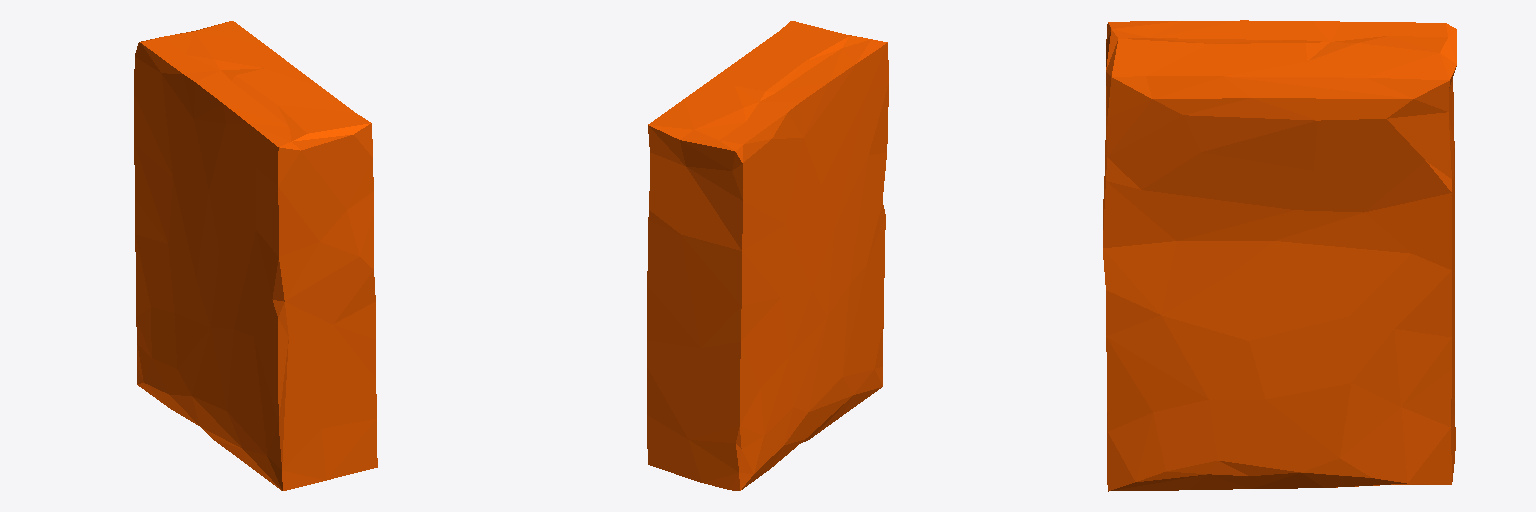
robot.urdf — 003_cracker_box:
<?xml version="1.0" ?>
<robot name="003_cracker_box">
   <material name="obj_color">
      <color rgba="1.0 0.423529411765 0.0392156862745 1.0"/>
   </material>
   <link name="top">
      <inertial>
         <origin rpy="0.0006038316259672886 0.001015664121442001 0.001446935289429902" xyz="-0.002521301937711204 -0.001764296957087579 -0.006063953426007961"/>
         <mass value="0.24875"/>
         <inertia ixx="0.001446830483283693" ixy="-2.524879616832648e-07" ixz="9.394614016453274e-06" iyy="0.001015635552806291" iyz="3.433747370824402e-06" izz="0.0006039650007492083"/>
      </inertial>
      <visual>
         <origin rpy="0 0 0" xyz="0 0 0"/>
         <geometry>
            <mesh filename="top_watertight_tiny.stl" scale="1 1 1"/>
         </geometry>
         <material name="obj_color"/>
      </visual>
      <collision>
         <origin rpy="0 0 0" xyz="0 0 0"/>
         <geometry>
            <mesh filename="top_watertight_tiny.obj" scale="1 1 1"/>
         </geometry>
      </collision>
   </link>
   <link name="bottom">
      <inertial>
         <origin rpy="1.633333333199431e-08 1.633333333199431e-08 1.633333333362855e-08" xyz="0.3464080000000008 0.3464080000000008 0.3464080000000008"/>
         <mass value="0.0009800000000000017"/>
         <inertia ixx="1.633333333253906e-08" ixy="5.447480642029219e-19" ixz="5.447480642029219e-19" iyy="1.633333333253906e-08" iyz="5.447480642029219e-19" izz="1.633333333253906e-08"/>
      </inertial>
      <visual>
         <origin rpy="0 0 0" xyz="0 0 0"/>
         <geometry>
            <mesh filename="bottom_watertight_tiny.stl" scale="1 1 1"/>
         </geometry>
         <material name="obj_color"/>
      </visual>
   </link>
   <link name="world"/>
   <joint name="world_to_base" type="fixed">
      <origin xyz="0 0 0"/>
      <axis xyz="0 0 0"/>
      <parent link="world"/>
      <child link="bottom"/>
   </joint>
   <joint name="rotation" type="revolute">
      <origin xyz="0 0 0"/>
      <axis xyz="0 0 -1"/>
      <parent link="bottom"/>
      <child link="top"/>
      <dynamics damping="1.0" friction="1.0"/>
      <limit effort="0.1" velocity="0.1" lower="0" upper="0.001"/>
   </joint>
</robot>

--- Render facts (derived) ---
Views: 3 orthographic renders of the robot side by side, from view 1: azimuth 30°, elevation 25°; view 2: azimuth 150°, elevation 25°; view 3: azimuth 270°, elevation 25°.
Model 003_cracker_box with 3 links and 2 joints (1 revolute, 1 fixed), rooted at world, posed all joints at 0.
Visible links, largest first — view 1: top; view 2: top; view 3: top.
Link boxes in pixels (box(x1,y1,x2,y2)): top: box(134, 21, 377, 490); top: box(647, 21, 888, 490); top: box(1103, 20, 1456, 491).
Size in the robot's own frame: 0.0718 by 0.1637 by 0.2132 metres.
1 mesh visuals loaded from 2 distinct referenced files (1 binary STL); not drawn: 1 (reference not matched to a file when rendering).
